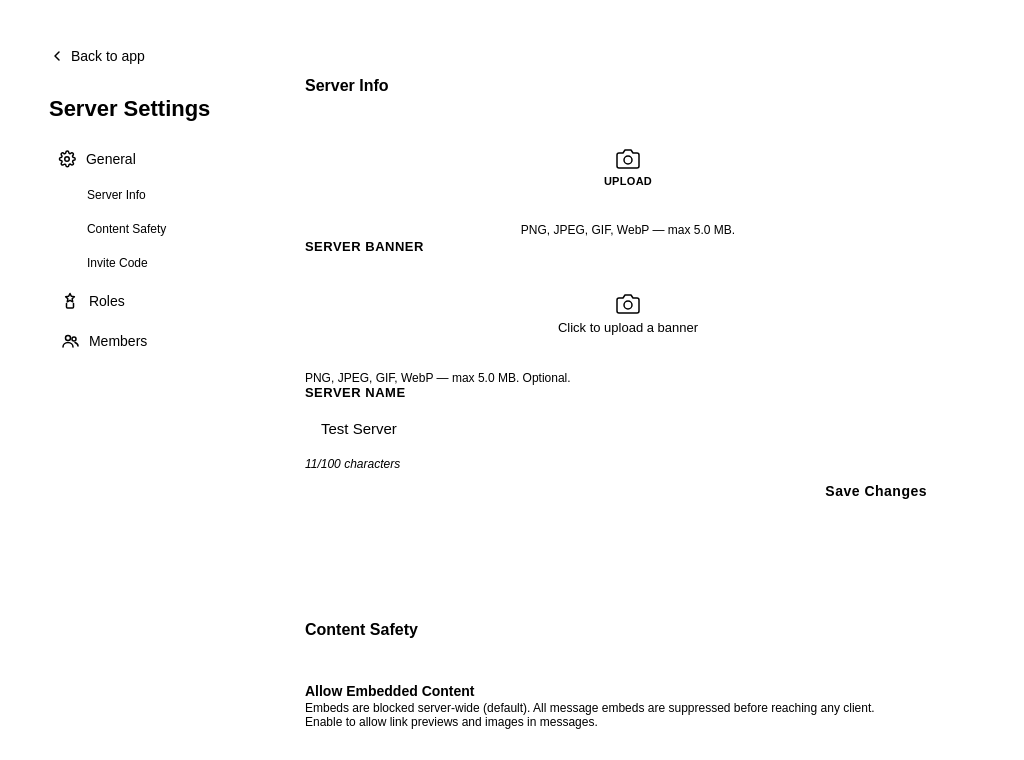
Test: ServerSettingsPage › shows error on failed save
Click the button "Save Changes" at (876, 491), box [801,471,951,511]
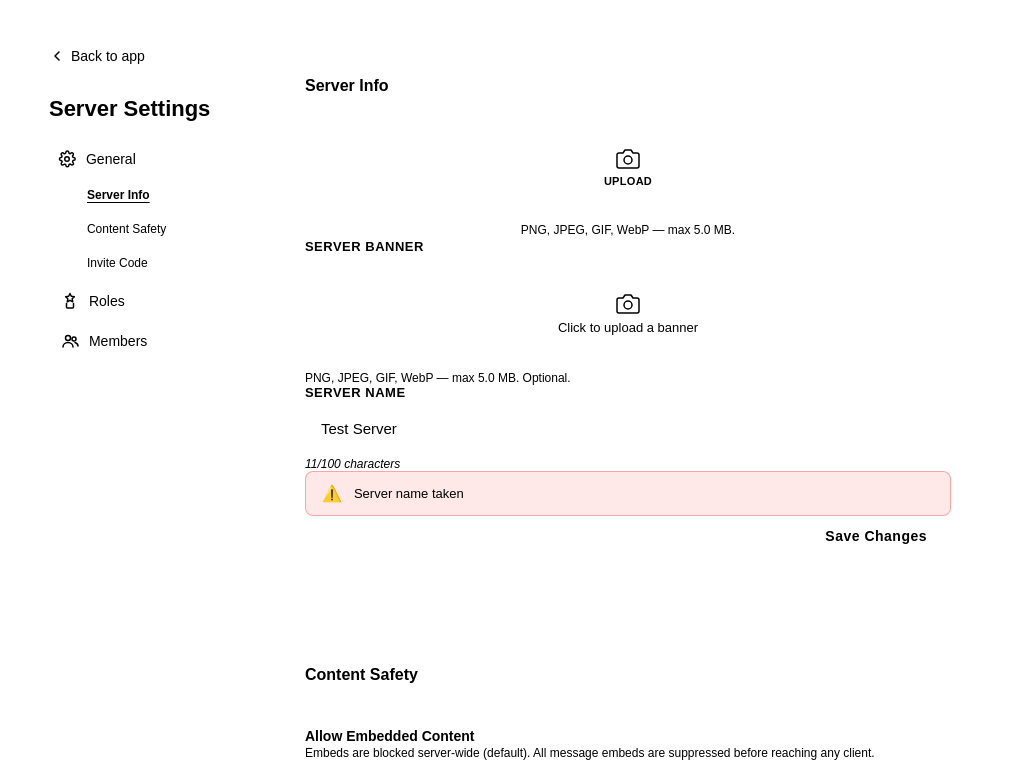
Expected: the text "Server name taken" is shown, [354,486,464,501]
